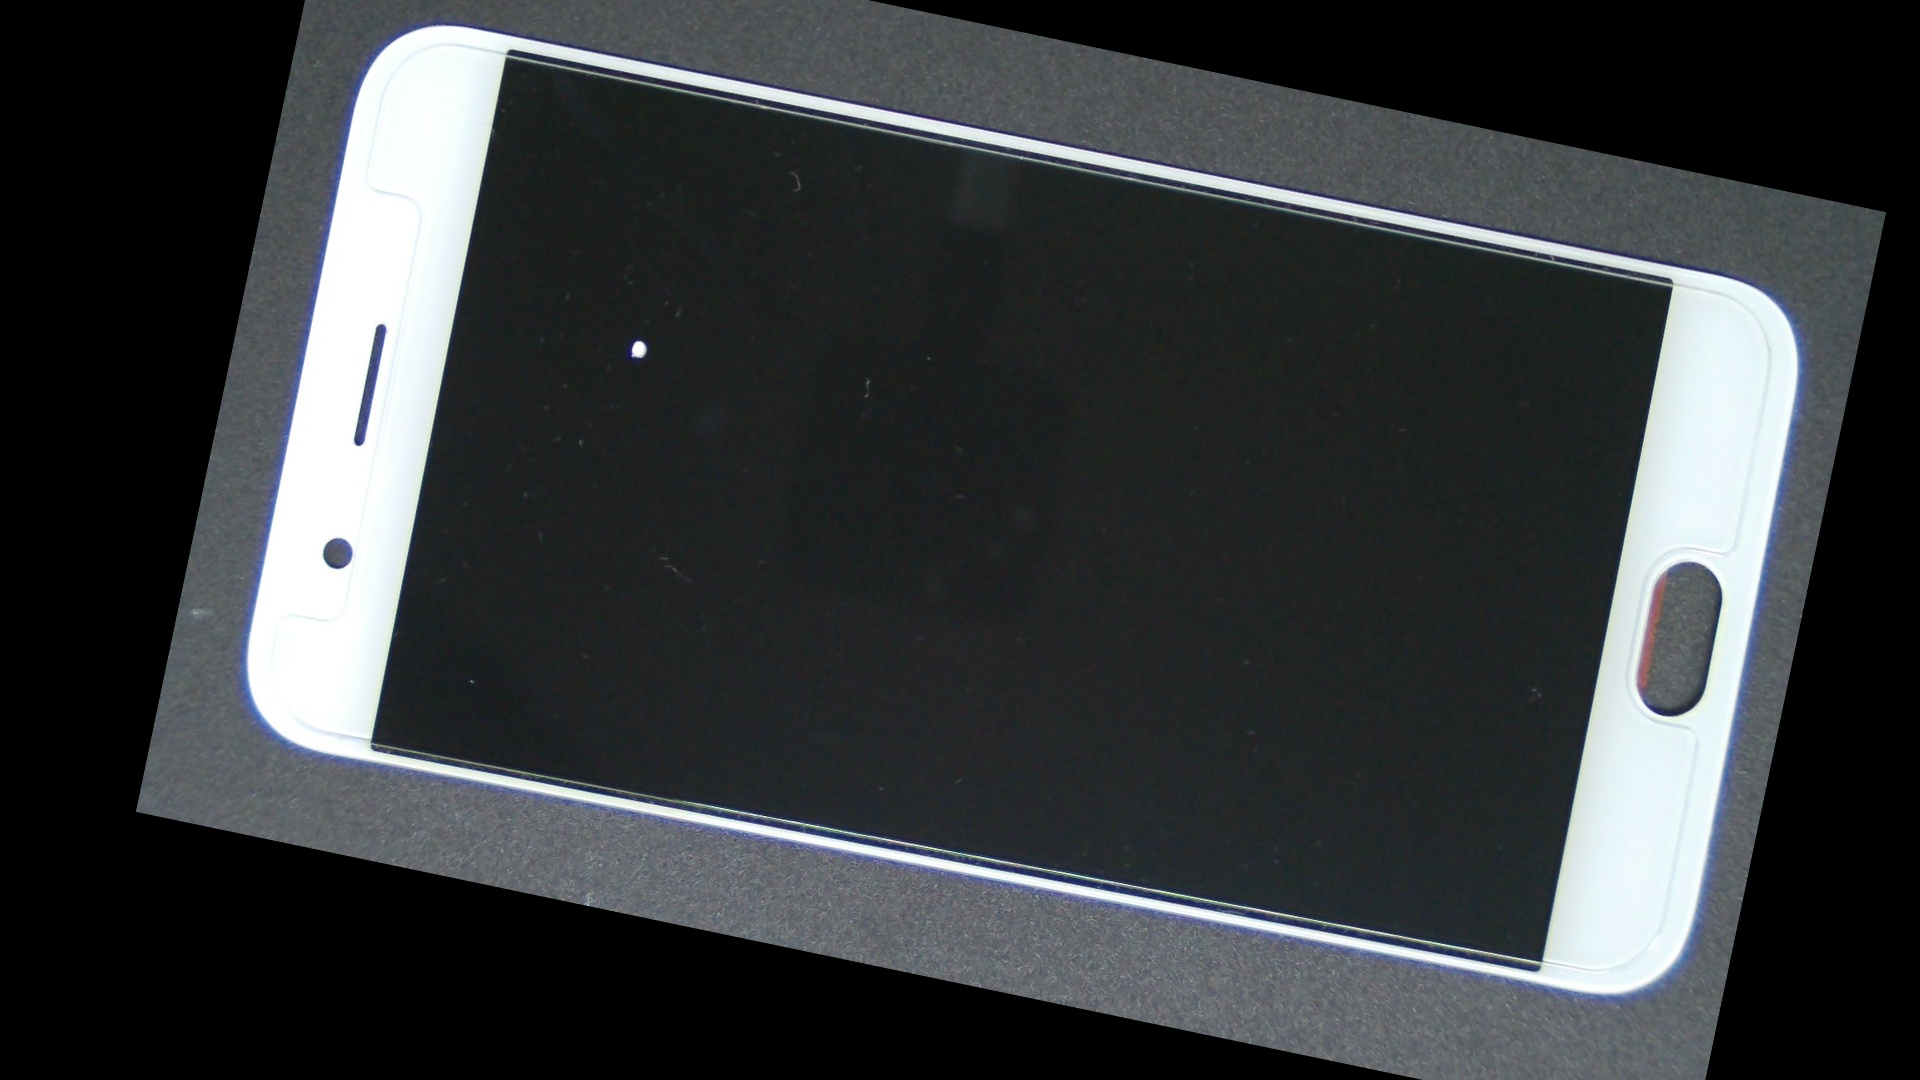oil: (407, 113, 874, 566)
